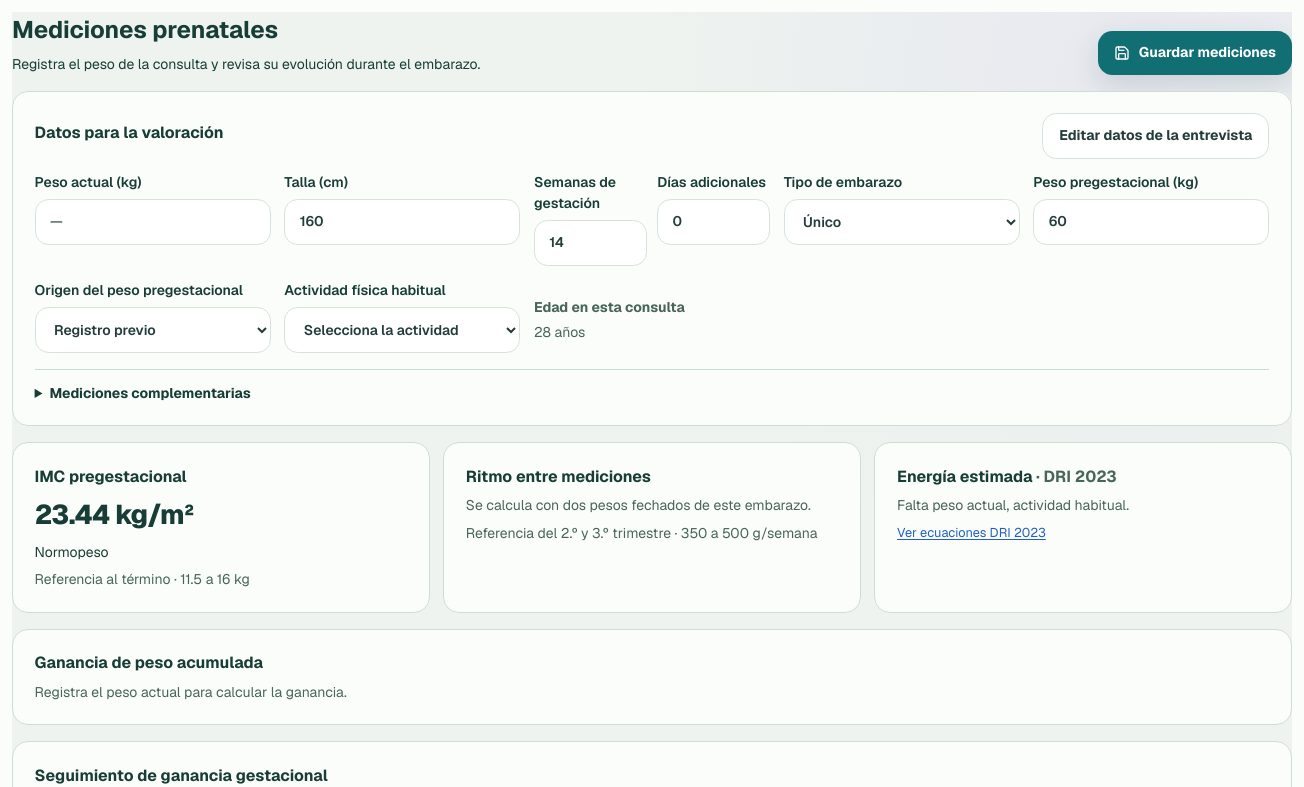
it: private prenatal workspace › reuses interview answers and saves the first measurement and its context
Check: the heading "Mediciones prenatales" is shown, box [12,14,278,45]
Check: the field labelled "Peso pregestacional (kg)" holds "60", box [1033,199,1269,245]
Type "62" into the field labelled "Peso actual (kg)" at x=153, y=222, box [35,199,271,245]
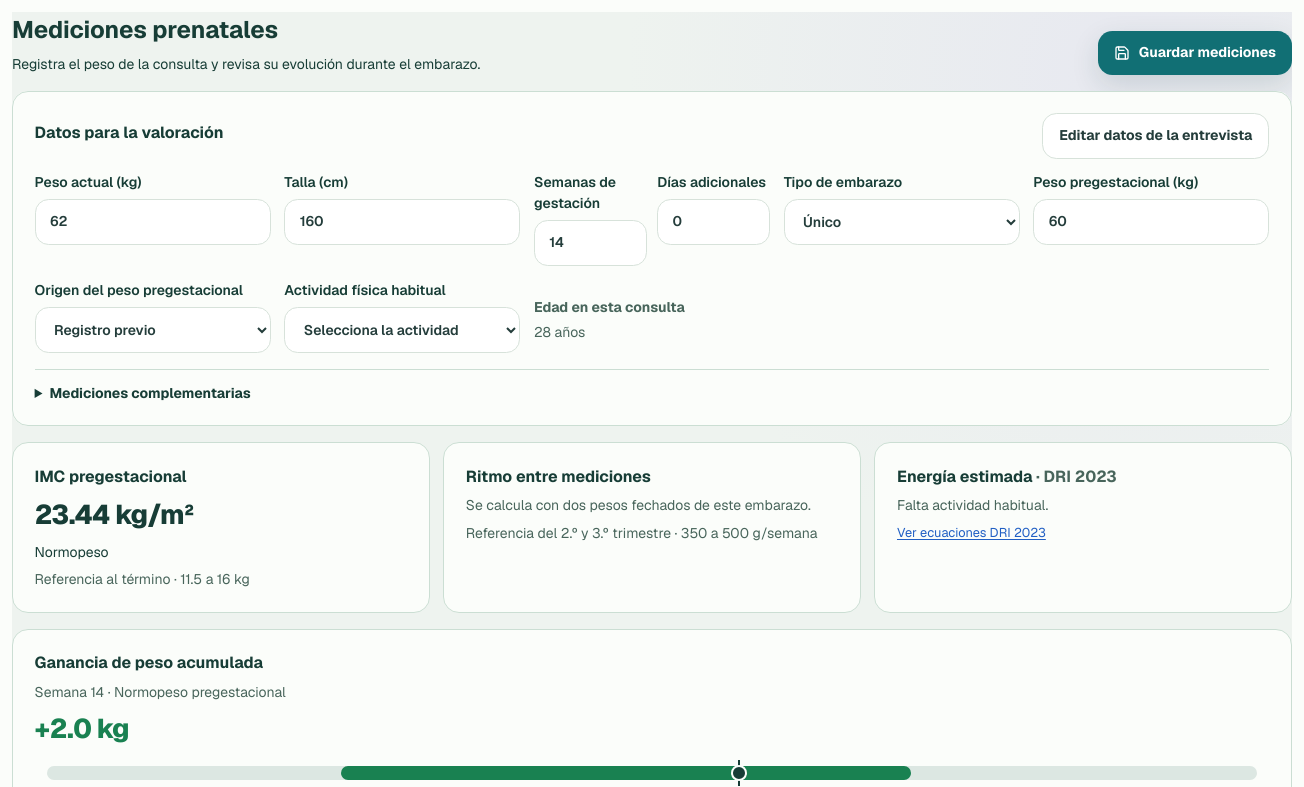
Select "Poco activa" in the dropdown labelled "Actividad física habitual" at x=402, y=330, box [284,307,520,353]
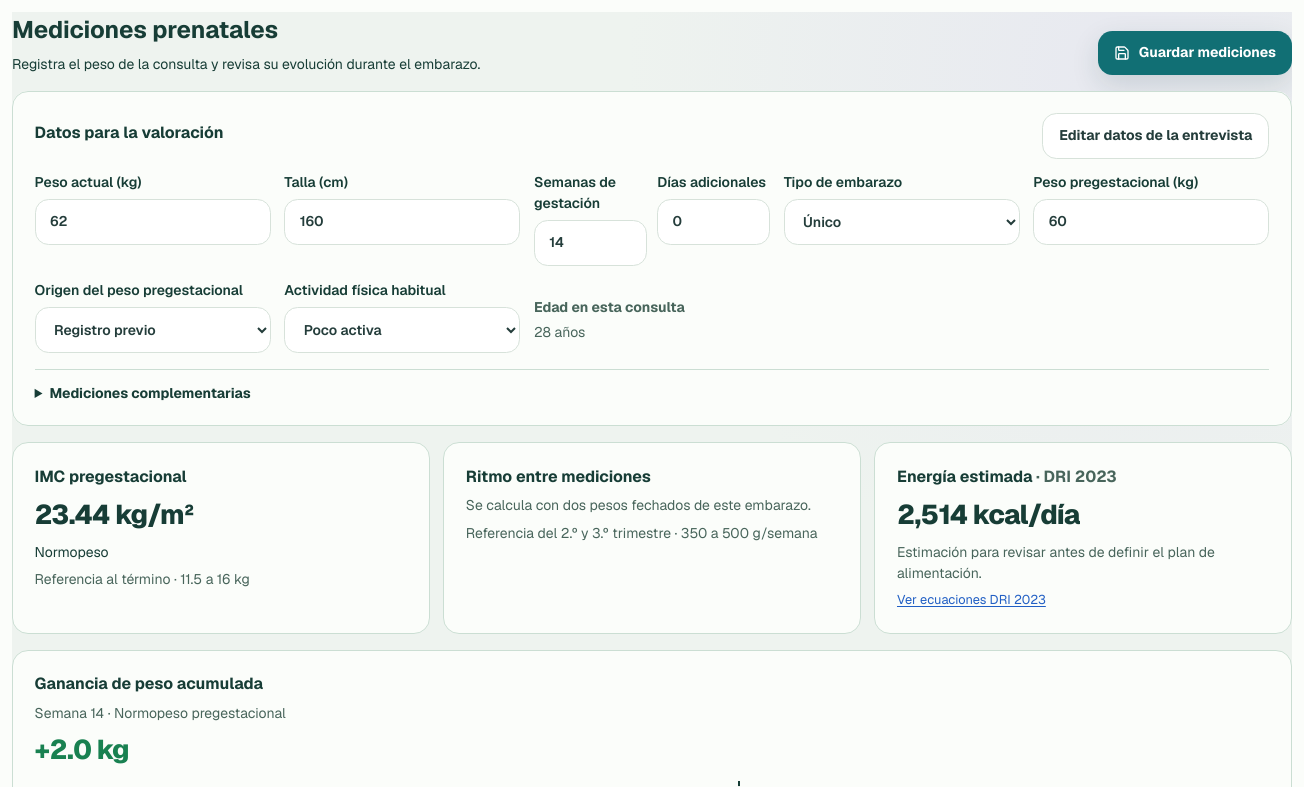
Check: the text "2,514 kcal/día" is shown, box [897,496,1080,532]
Click the button "Guardar mediciones" at x=1195, y=53, box [1098,31,1292,75]
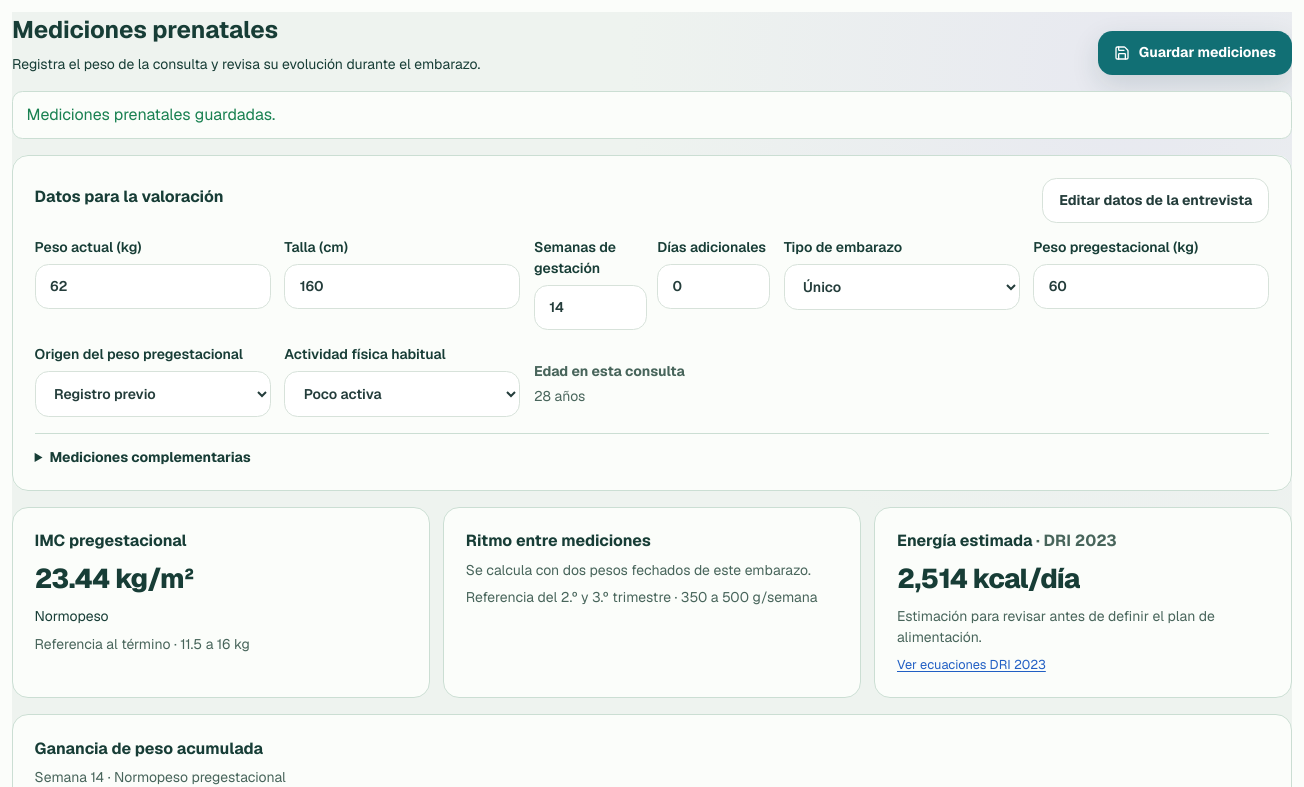
Check: the text "Mediciones prenatales guardadas." is shown, box [12,91,1292,139]
